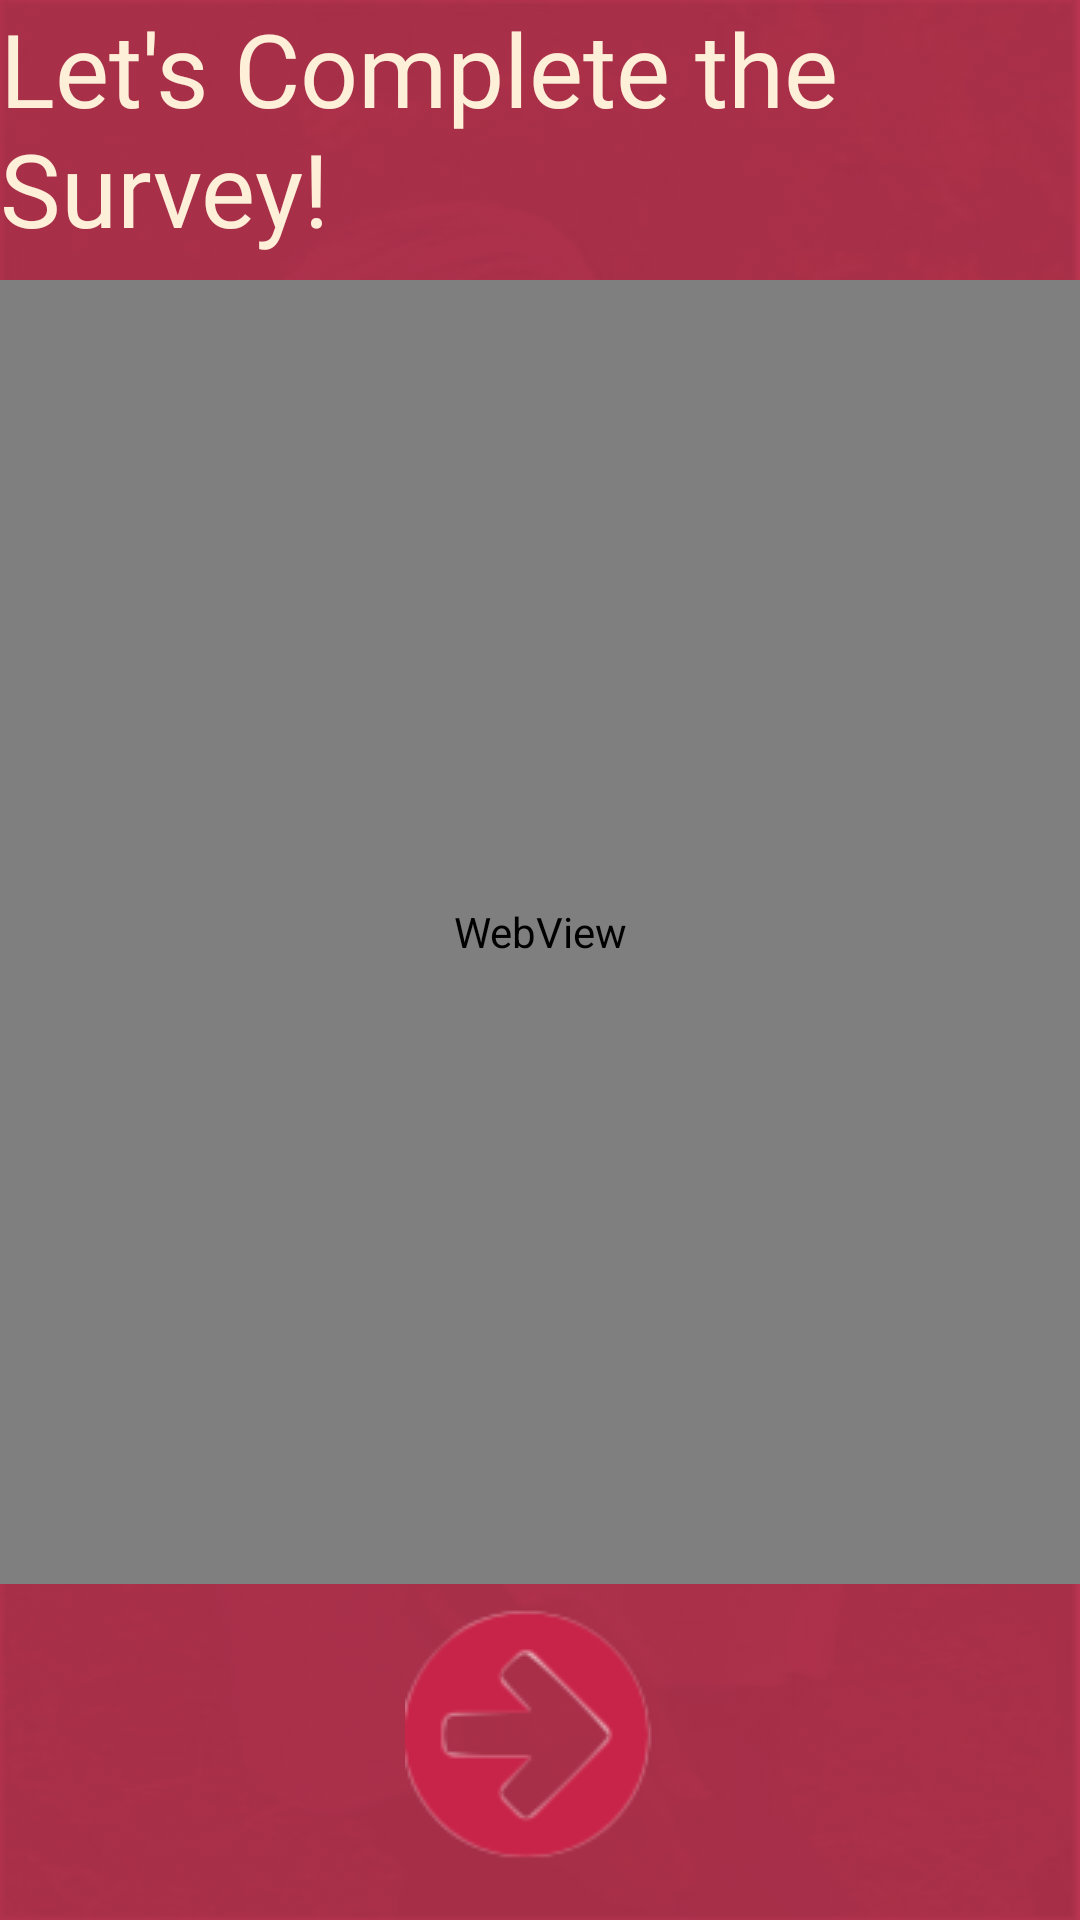

Icons on this 1080px x 1920px Android screen, each with the point to tap as (x=x, y=y):
next: (x=527, y=1733)
